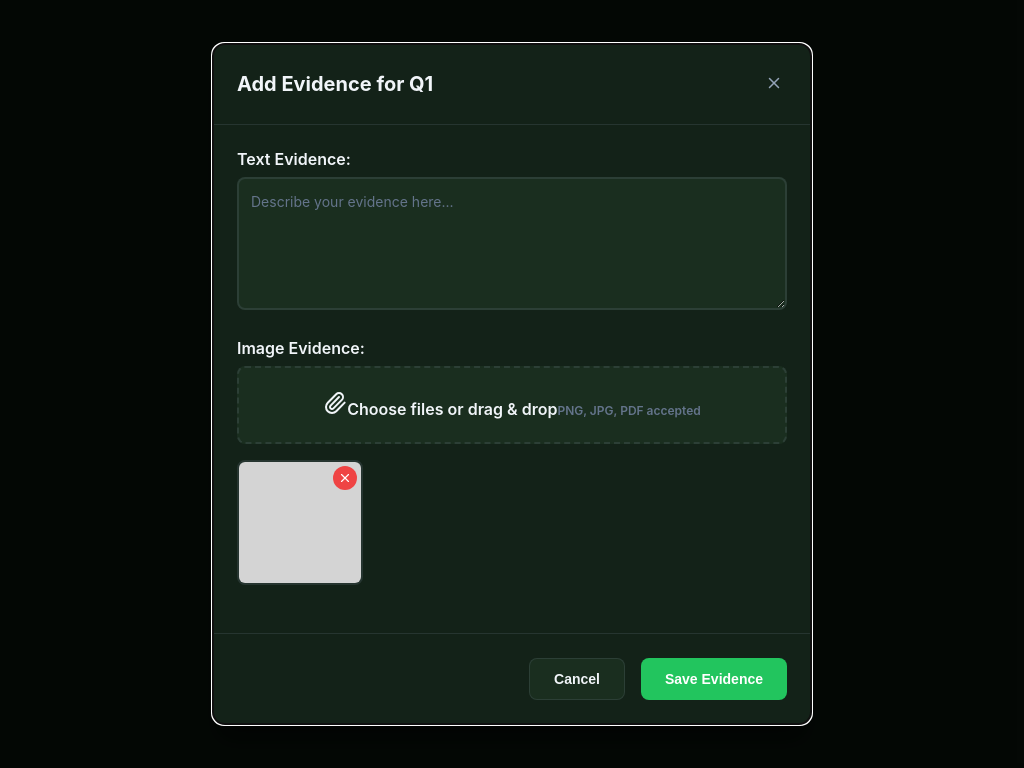
Test: EvidenceModal › should remove image when remove button clicked
Click the button with test id "remove-image-0". click: point(344, 478)
box: [332, 466, 356, 490]
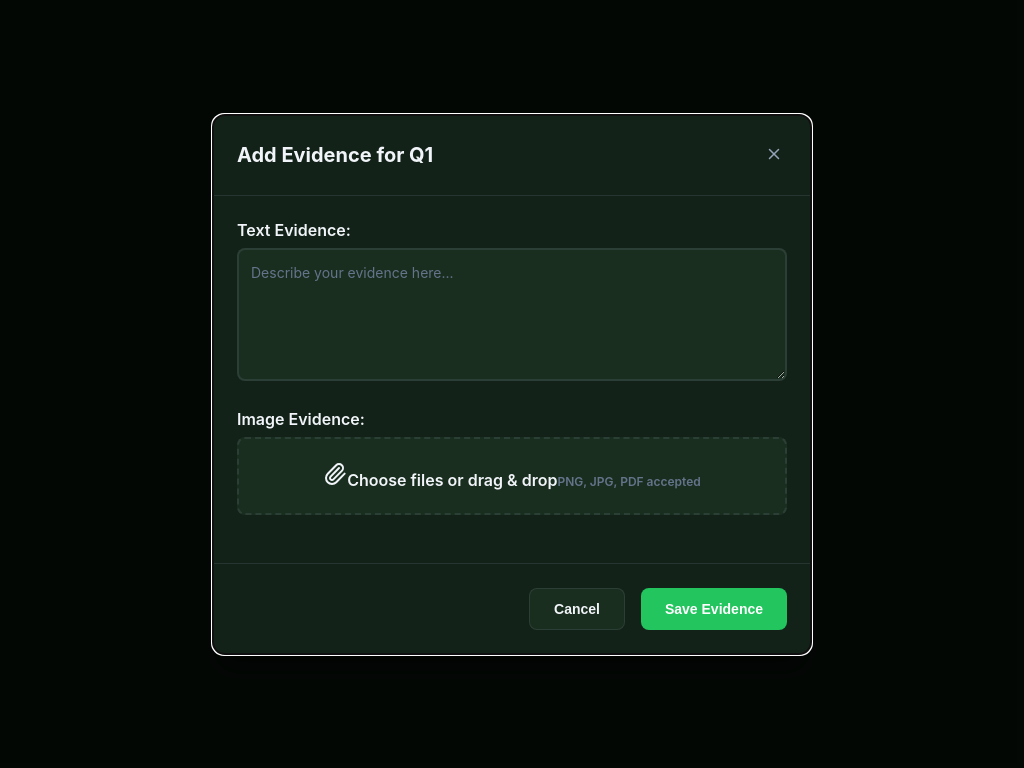
expect the element with test id "image-preview" is gone: met
